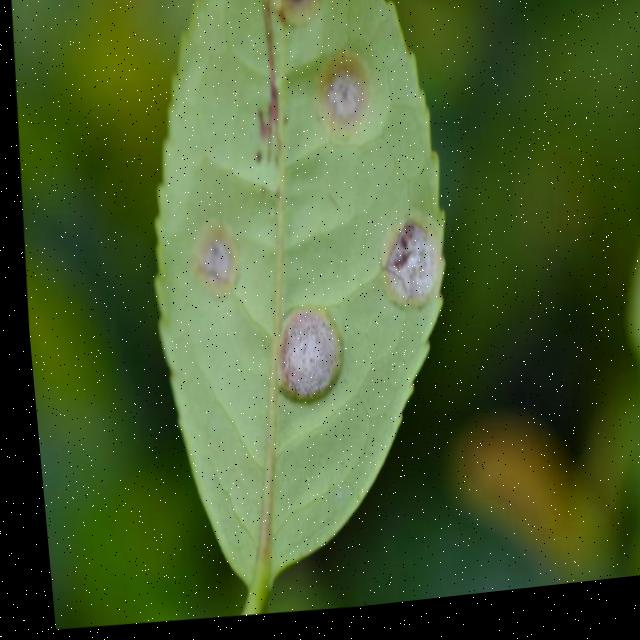Tea cake: (371, 219, 432, 319), (266, 313, 331, 401), (311, 52, 373, 133), (182, 228, 237, 305)
